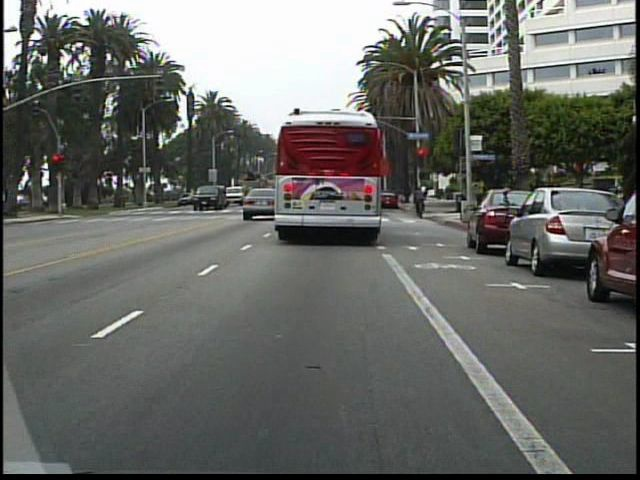person: (409, 181, 430, 217)
